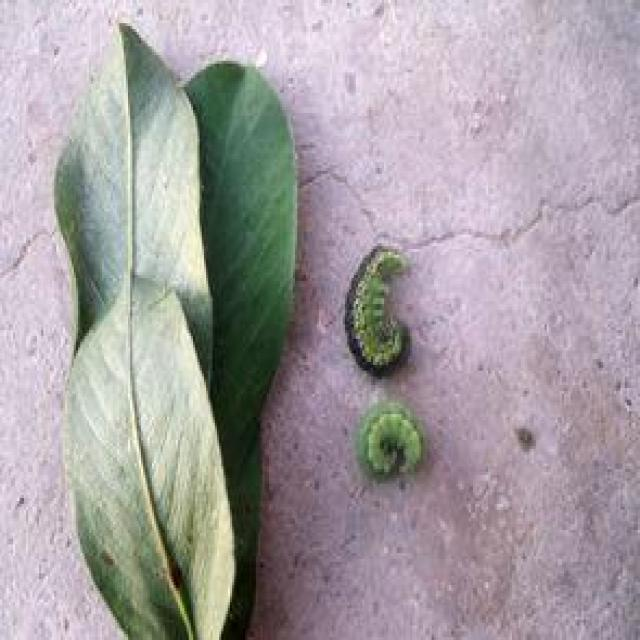BeetArmyWorm-Larva-: (336, 235, 434, 384), (328, 378, 437, 494)
